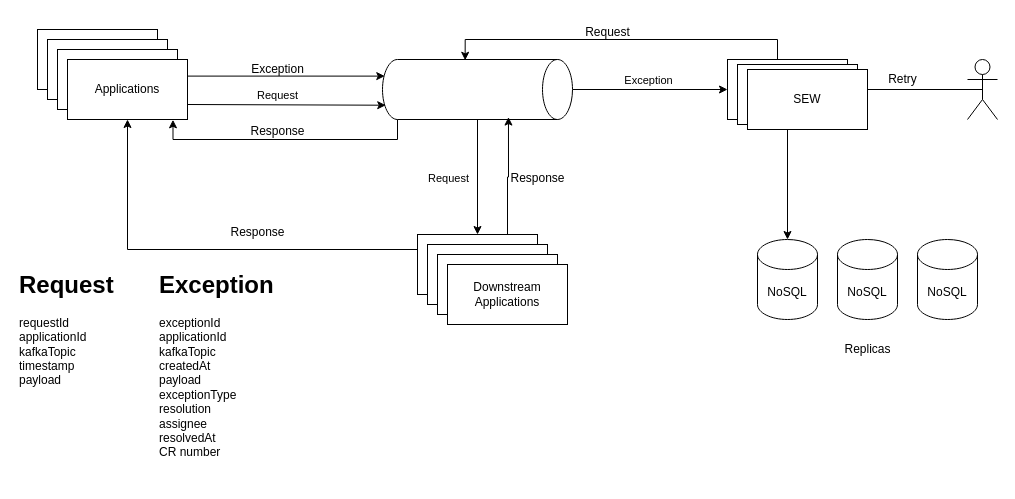
This 1015x499 diagram has some shape labels left out. The centre of each missing label's shape, as x and y in pixels:
"Actor" belongs at (982,89).
"Kafka" belongs at (477,89).
